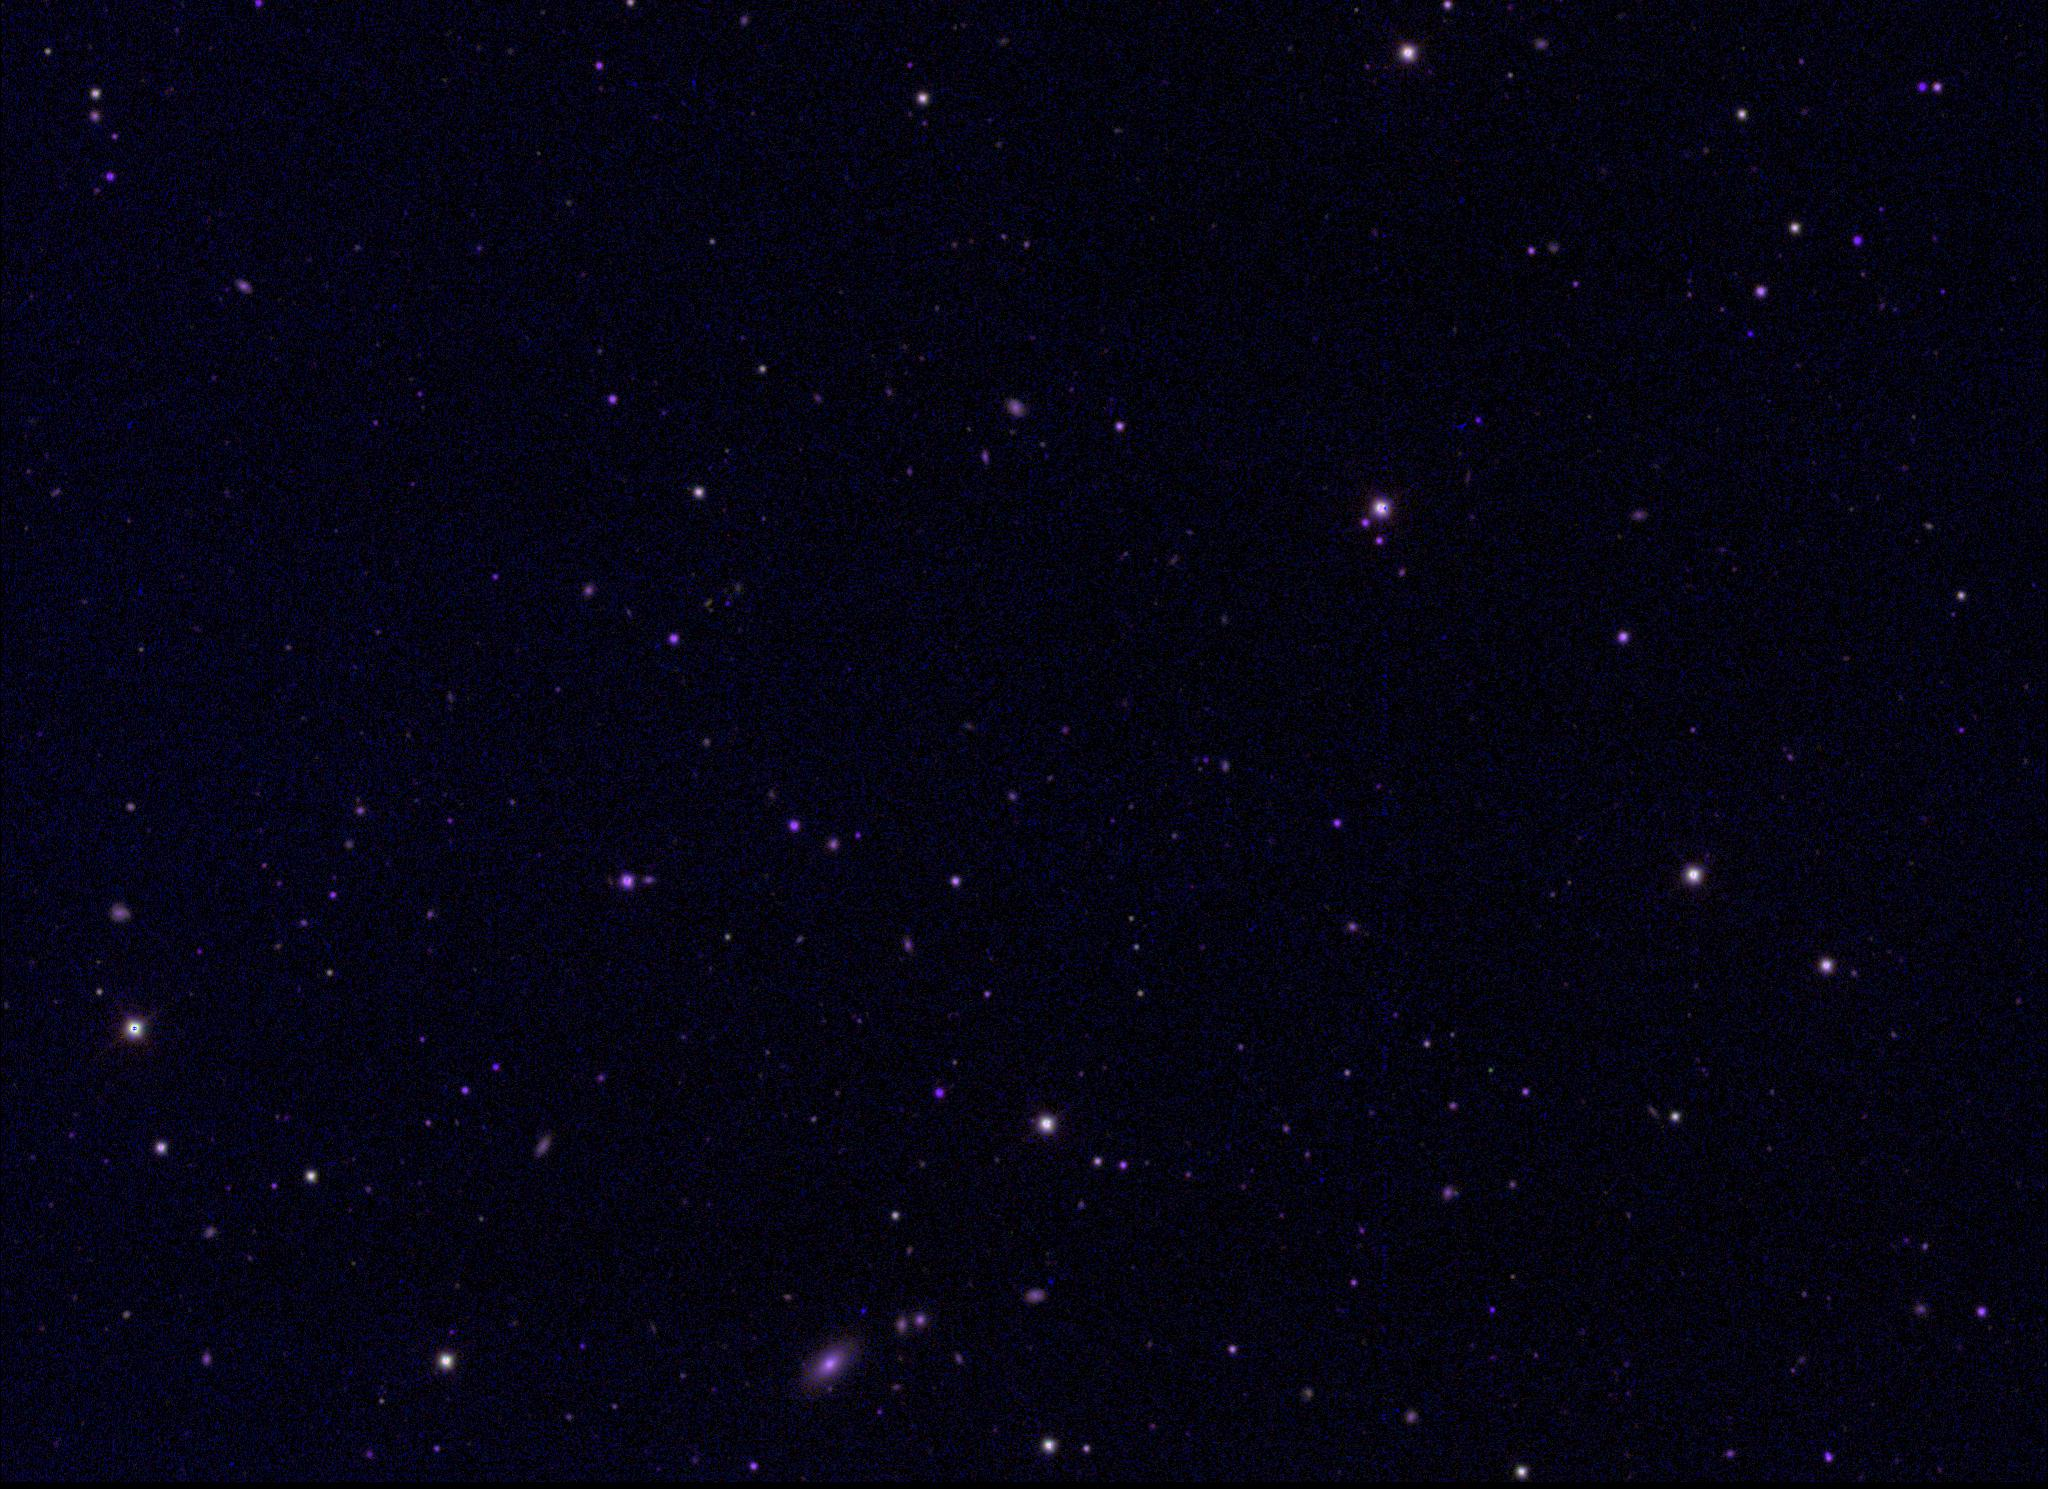L: (857, 1304, 871, 1319)
